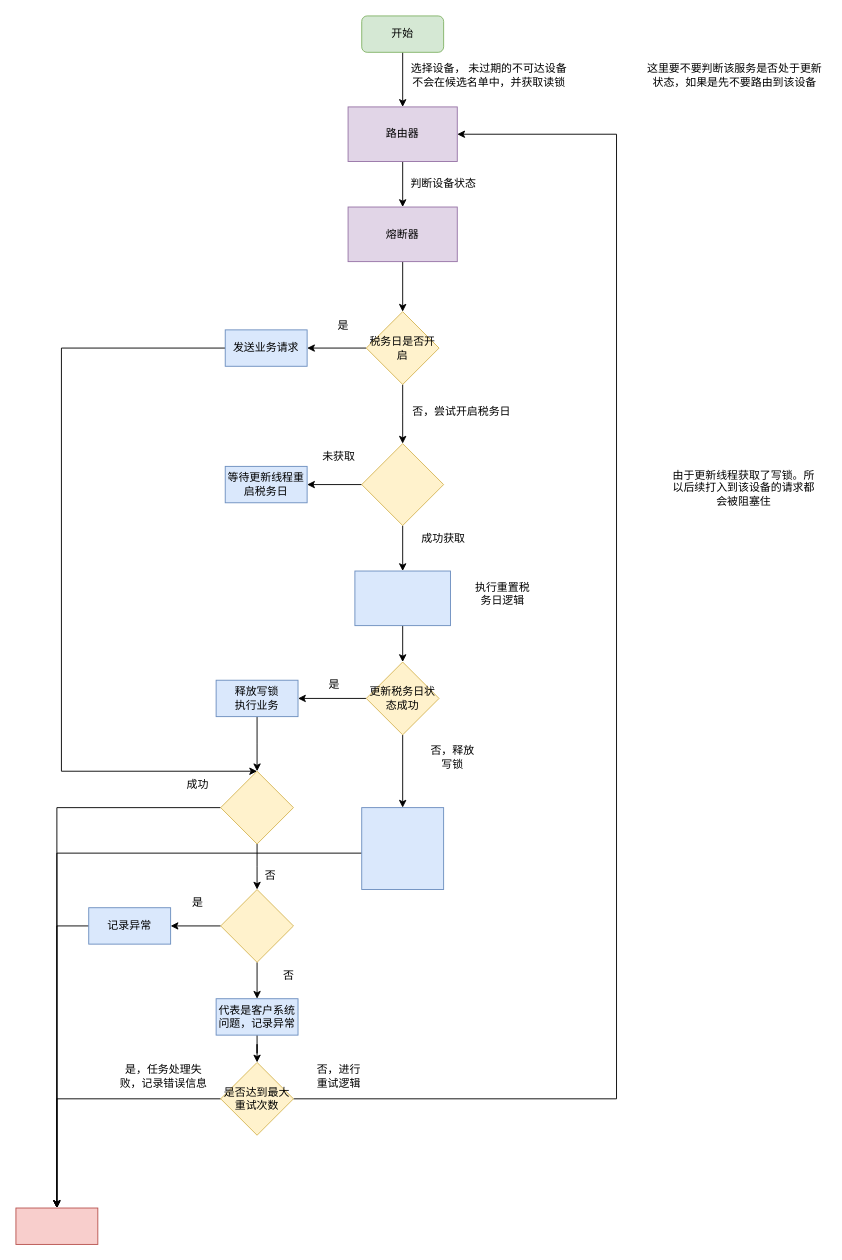
Image size: 842x1260. Some labels were removed from this diagram. The centre of each missing label's shape, as x and y in pixels:
1.关闭税务日 2.开启税务日 3.检查税务日状态: the point at 402,598
end: the point at 56,1225
业务处理释放成功: the point at 256,807
是否为请求数据错误: the point at 256,925
释放写锁 修改设备状态为不可达 本次请求失败: the point at 402,848
释放读锁获取写锁: the point at 402,484
